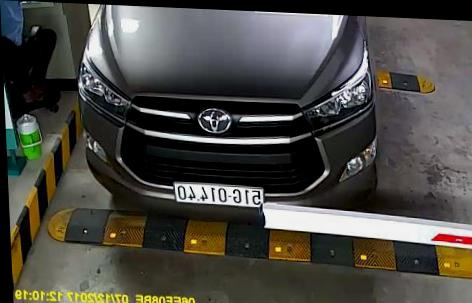License_Plate: (173, 177, 269, 210)
